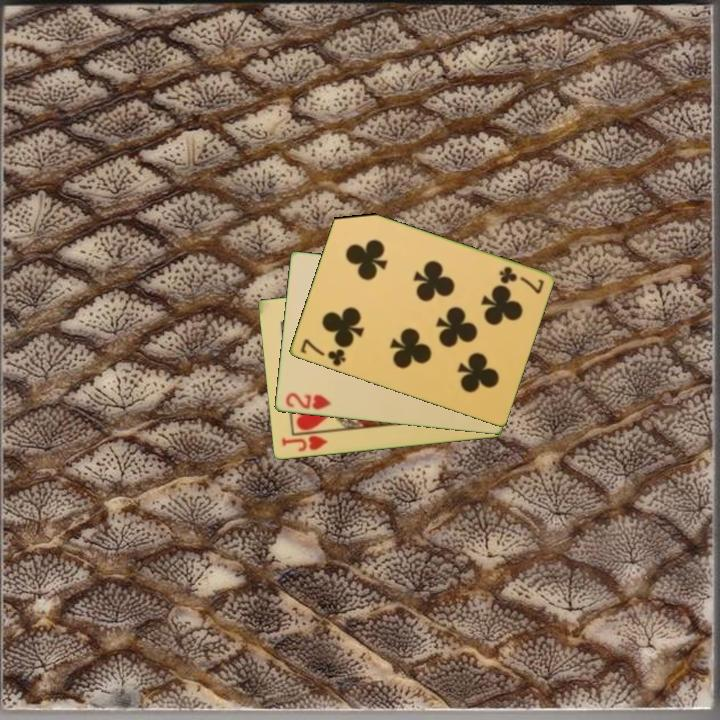2h: (282, 389, 333, 413)
7c: (297, 335, 349, 369), (495, 263, 546, 297)
Jh: (278, 428, 333, 455)
